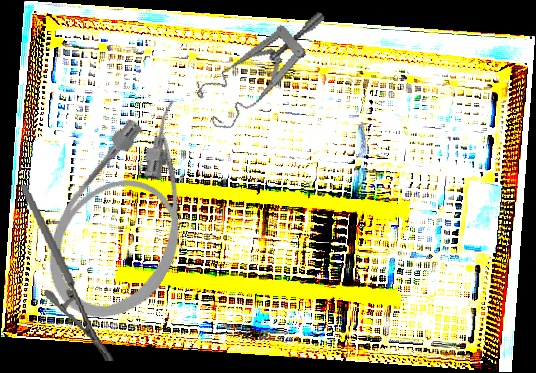Cannula: (23, 80, 242, 342)
Needle Holder: (19, 176, 116, 370)
Speculum: (183, 8, 349, 136)
